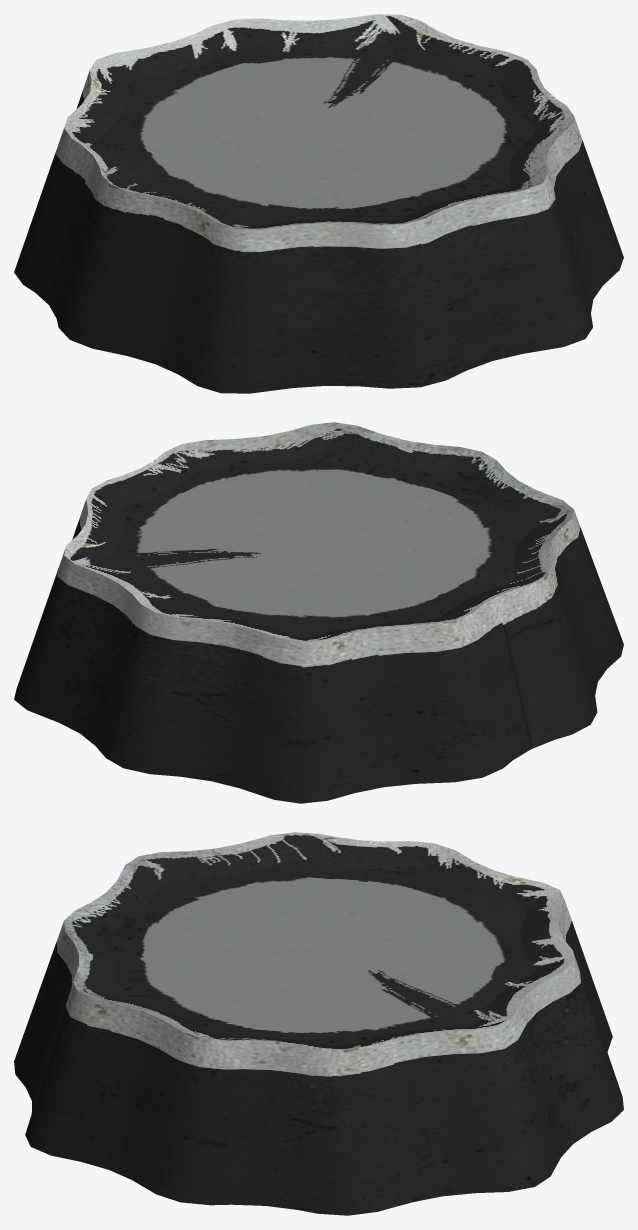
Rendered from F_FiringKnob_01.fbx.
3 views of the same model, one above another, from view 1: azimuth 30°, elevation 25°; view 2: azimuth 150°, elevation 25°; view 3: azimuth 270°, elevation 25° (orthographic). The views are drawn at different scales.
Parts seen in each view (by area): view 1: F_FiringKnob_01; view 2: F_FiringKnob_01; view 3: F_FiringKnob_01.
Part boxes in pixels (<box>): F_FiringKnob_01: <box>14,14,623,393</box>; F_FiringKnob_01: <box>14,422,623,803</box>; F_FiringKnob_01: <box>14,832,623,1215</box>.
Bounding box in the file's own units: 60.62 × 15.73 × 60.09.
Materials: 1 (1 with a texture image).
